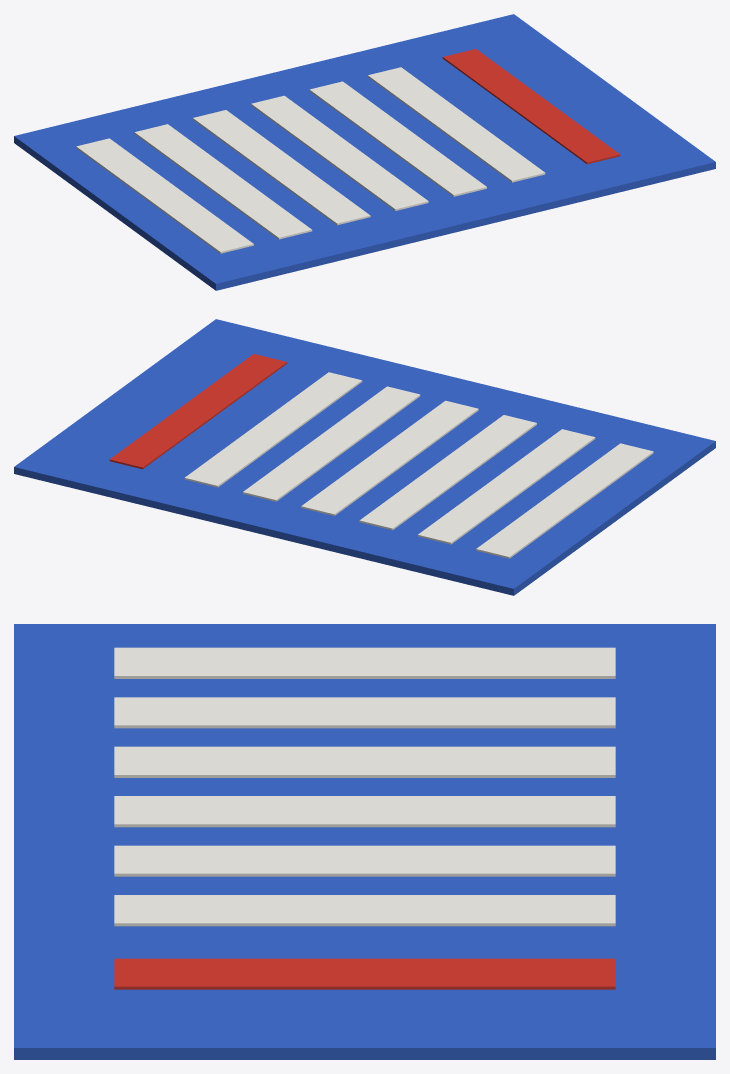
The model's file is bowl_secret_plan.glb.
3 renders of one model, top to bottom at view 1: azimuth 30°, elevation 25°; view 2: azimuth 150°, elevation 25°; view 3: azimuth 270°, elevation 25°, orthographic. The views are drawn at different scales.
Visible parts, largest first — view 1: paper_plan_blue, lanes_plan_white (×6), lane7_ink_red; view 2: paper_plan_blue, lanes_plan_white (×6), lane7_ink_red; view 3: paper_plan_blue, lanes_plan_white (×6), lane7_ink_red.
Boxes of the visible parts, <box> form: paper_plan_blue: <box>14,14,715,290</box>; lanes_plan_white (×6): <box>76,67,545,253</box>; lane7_ink_red: <box>442,49,620,164</box>; paper_plan_blue: <box>14,319,715,595</box>; lanes_plan_white (×6): <box>184,372,653,558</box>; lane7_ink_red: <box>109,354,287,469</box>; paper_plan_blue: <box>14,624,715,1059</box>; lanes_plan_white (×6): <box>114,647,615,926</box>; lane7_ink_red: <box>114,958,615,989</box>.
Bounding box in the file's own units: 0.3 × 0.0055 × 0.21.
